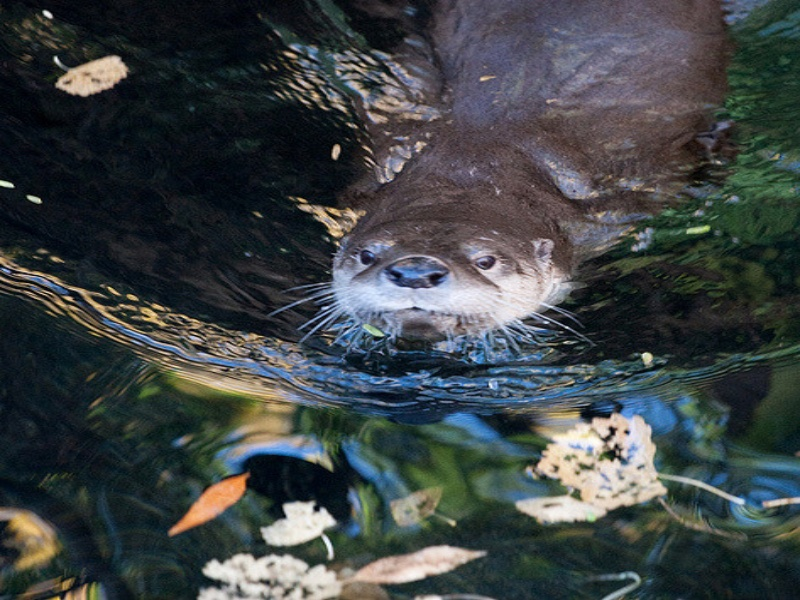minkish: (324, 3, 740, 362)
